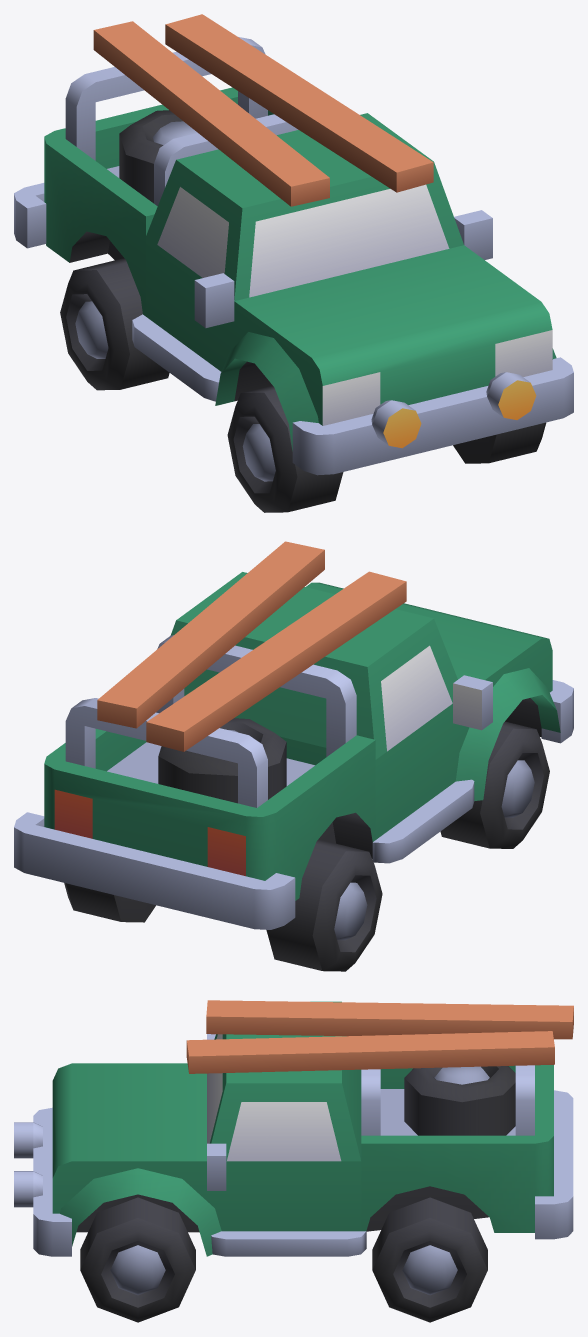
The model's file is vehicle-truck-green.glb.
3 views of the same model, one above another, from view 1: azimuth 30°, elevation 25°; view 2: azimuth 150°, elevation 25°; view 3: azimuth 270°, elevation 25° (orthographic). The views are drawn at different scales.
Visible parts, largest first — view 1: body, wheel-back-right, wheel-front-right, wheel-front-left; view 2: body, wheel-back-right, wheel-front-right, wheel-back-left; view 3: body, wheel-back-left, wheel-front-left.
Part boxes in pixels (box(x1,y1,x2,y2)): body: box(14, 14, 573, 475); wheel-back-right: box(60, 258, 169, 390); wheel-front-right: box(227, 385, 343, 512); wheel-front-left: box(453, 422, 546, 463); body: box(14, 541, 573, 929); wheel-back-right: box(266, 840, 382, 971); wheel-front-right: box(440, 721, 549, 848); wheel-back-left: box(64, 883, 155, 922); body: box(14, 1000, 573, 1256); wheel-back-left: box(372, 1197, 487, 1322); wheel-front-left: box(80, 1197, 195, 1322).
Bounding box in the file's own units: 1.5 × 1.4 × 2.9.
1 material, 1 textured.
